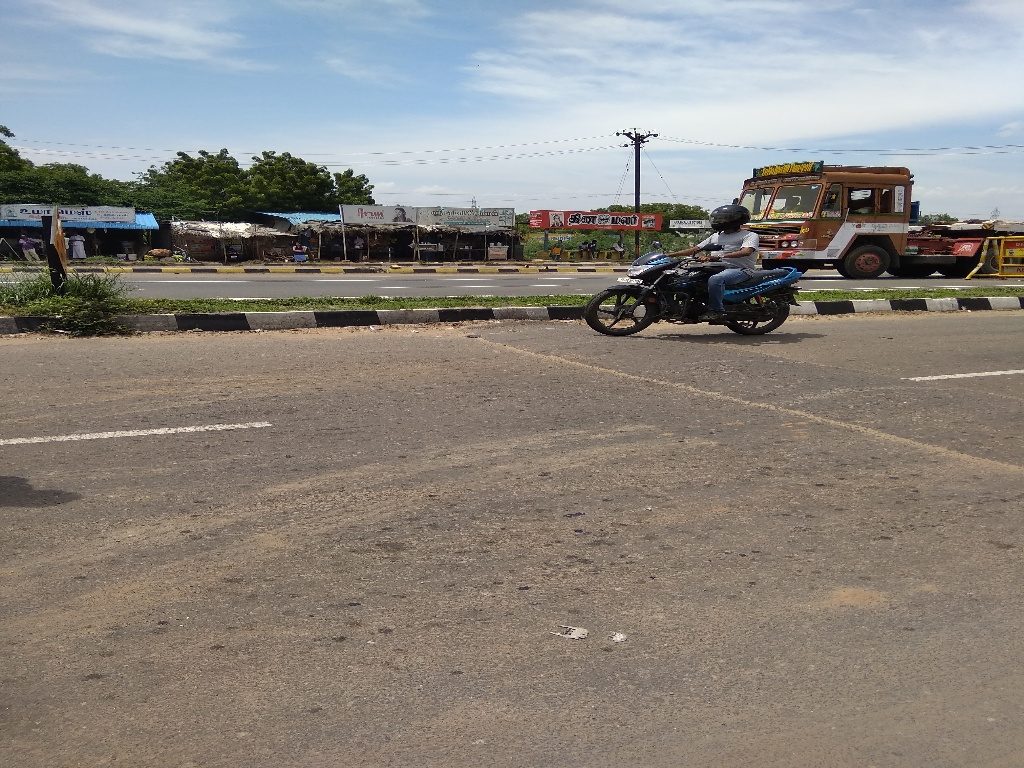biker: (568, 152, 819, 361)
helmet: (698, 190, 762, 244)
